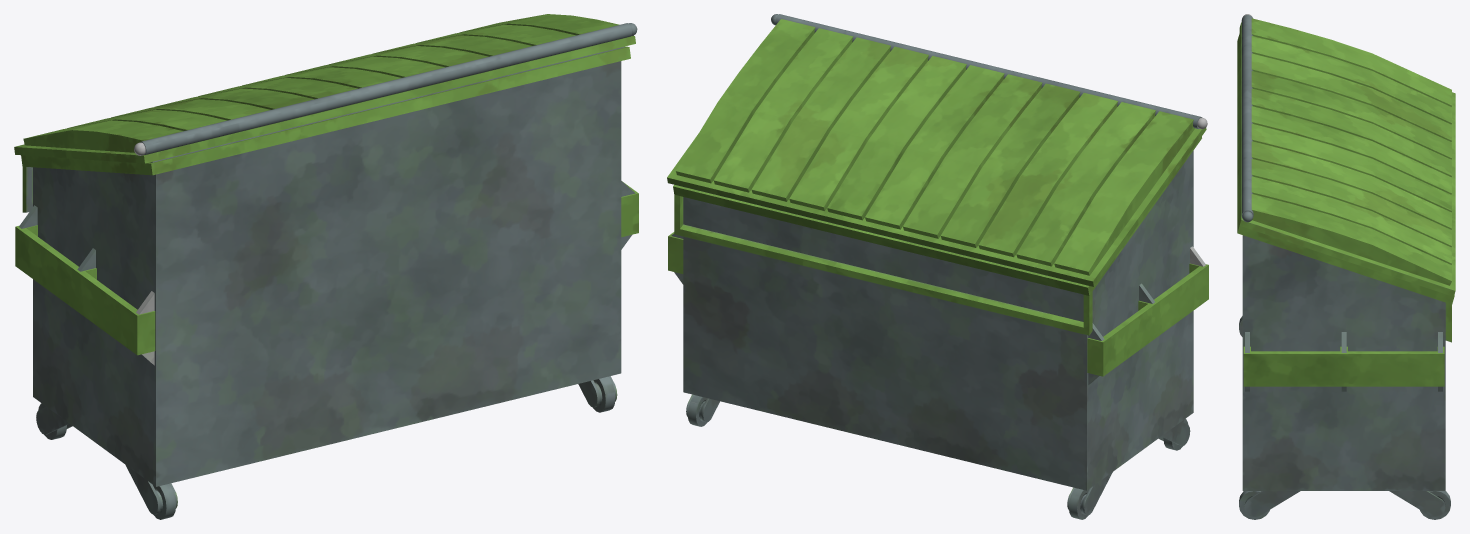
Rendered from benne_a_ordure.fbx.
3 views of the same model, side by side, from view 1: azimuth 30°, elevation 25°; view 2: azimuth 150°, elevation 25°; view 3: azimuth 270°, elevation 25° (orthographic). The views are drawn at different scales.
Visible parts, largest first — view 1: Benne à ordure; view 2: Benne à ordure; view 3: Benne à ordure.
Part boxes in pixels (x1,y1,x2,y2): Benne à ordure: [14, 14, 638, 519]; Benne à ordure: [667, 14, 1208, 519]; Benne à ordure: [1237, 14, 1455, 519].
Size of the model in its own units: 484 by 354 by 221.
